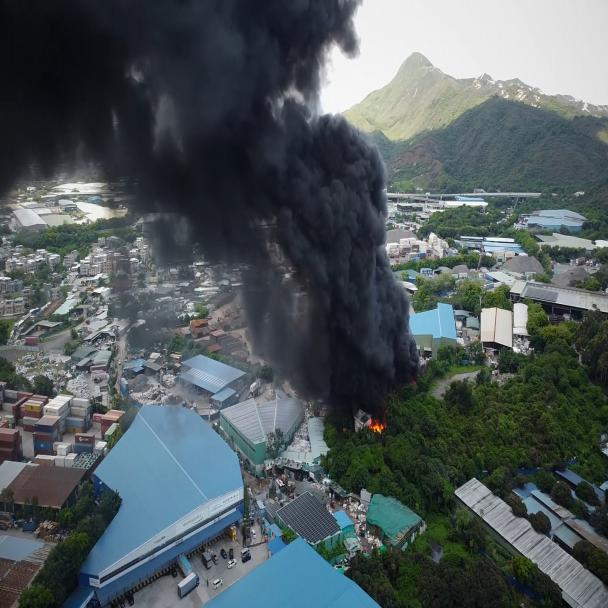Fire: (289, 351, 429, 475)
smoke: (5, 3, 425, 322)
